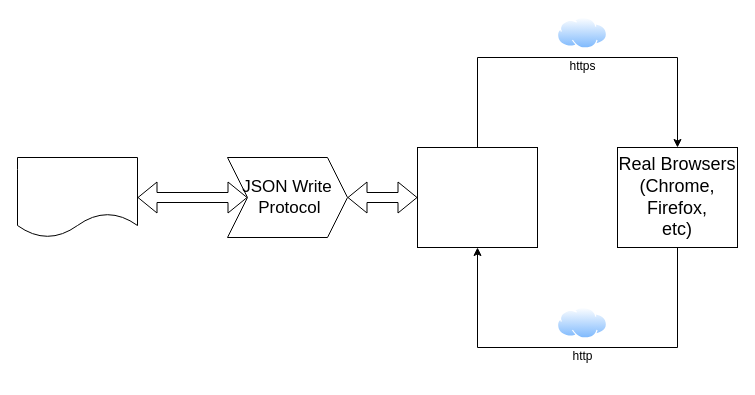
Image size: 755x395. Some labels were removed from this diagram. Here are the shapes that lost their labels. From the top down, the centre of each, then its label:
At pixel 77 197: "Selenium Client Libraries (Python, JS, etc)".
At pixel 477 197: "Browser Drivers (Chrome Driver, Firefox Driver, etc)".
